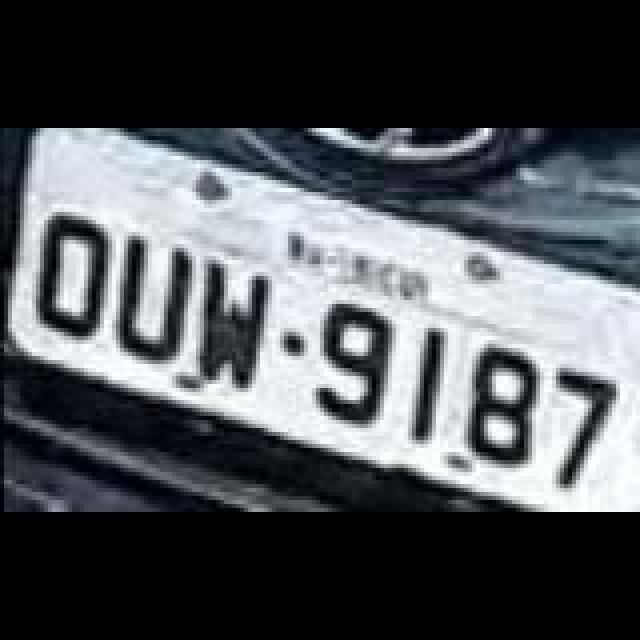1: (402, 322, 450, 446)
7: (548, 366, 624, 498)
8: (468, 346, 544, 470)
9: (314, 300, 394, 428)
O: (32, 214, 116, 346)
U: (112, 238, 196, 370)
W: (190, 260, 278, 396)
